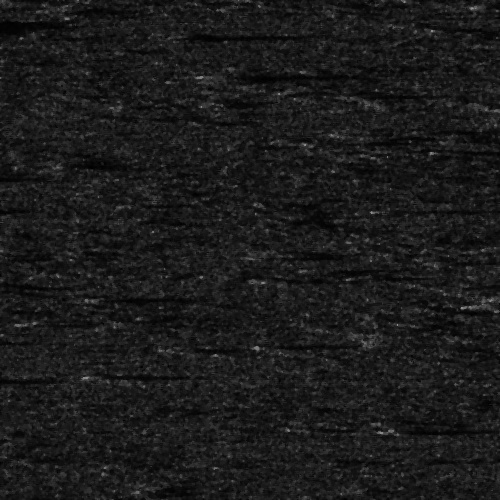object: (197, 271, 332, 284), (178, 71, 231, 78), (141, 31, 204, 36), (163, 344, 204, 351), (379, 428, 410, 433), (48, 160, 79, 165), (244, 250, 275, 253), (75, 372, 96, 375)
shadow: (205, 71, 362, 78), (264, 271, 345, 284), (173, 31, 329, 36), (64, 160, 174, 165), (395, 428, 478, 433), (86, 372, 196, 375), (184, 344, 222, 351), (0, 376, 52, 381), (259, 250, 340, 253), (0, 16, 21, 25)
